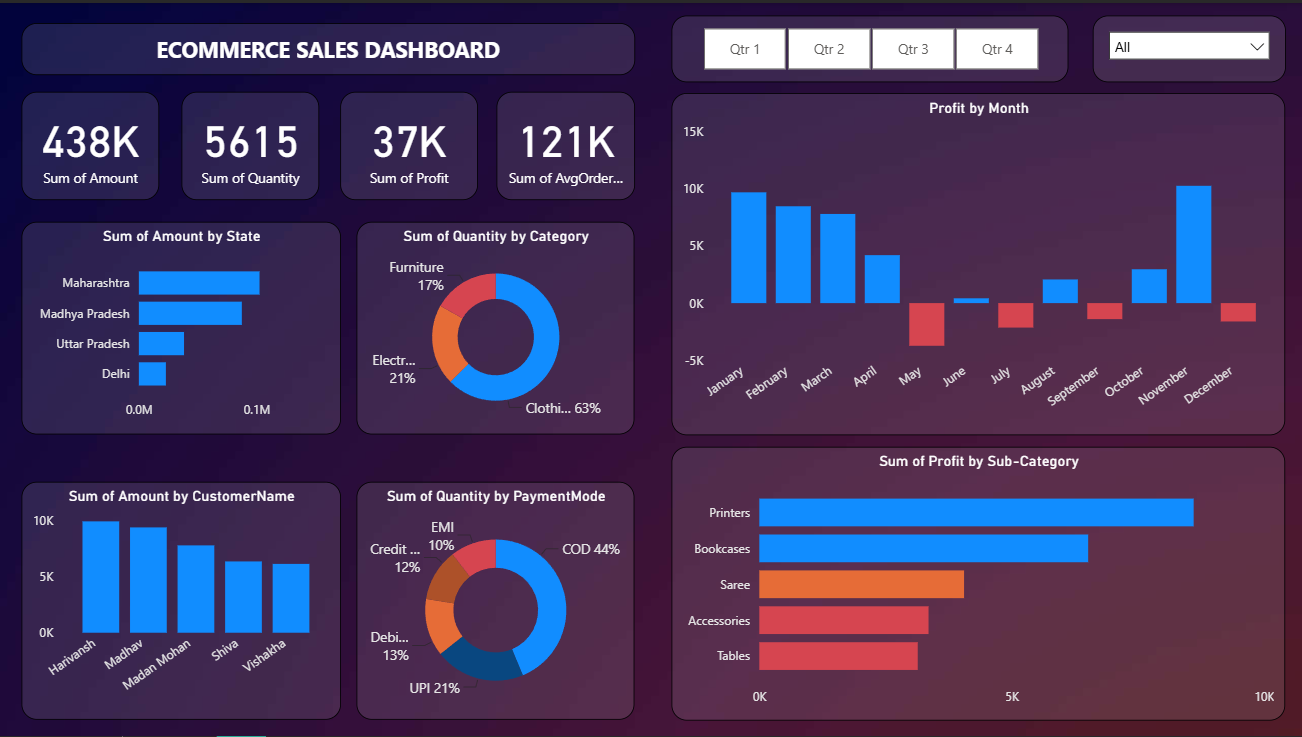

The dashboard page shown, as its layout file describes it:
{"tool":"powerbi","page":{"name":"Page 1","canvas":[1280,720],"ordinal":0},"visuals":[{"type":"textbox","box":[21.5,20.2,602.5,51.1],"z":0},{"type":"columnChart","title":"Profit by Month","fields":{"Y":["Sum(Details.Profit)"],"Category":["Orders.Order Date.Variation.Date Hierarchy.Month"]},"box":[660,87.8,602.4,336.2],"z":1000},{"type":"barChart","fields":{"Category":["Details.Sub-Category"],"Y":["Sum(Details.Profit)"]},"box":[660,435,602.4,269],"z":2000},{"type":"donutChart","fields":{"Category":["Details.Category"],"Y":["Sum(Details.Quantity)"]},"box":[351,215.2,273,208.4],"z":3000},{"type":"donutChart","fields":{"Category":["Details.PaymentMode"],"Y":["Sum(Details.Quantity)"]},"box":[351,469.3,273,234],"z":4000},{"type":"card","fields":{"Values":["Sum(Details.Amount)"]},"box":[21.5,87.4,135,106.2],"z":5000},{"type":"card","fields":{"Values":["Sum(Details.Quantity)"]},"box":[178.9,87.4,135,106.2],"z":6000},{"type":"card","fields":{"Values":["Sum(Details.AvgOrderValue)"]},"box":[488.2,87.4,135.8,106.2],"z":7000},{"type":"card","fields":{"Values":["Sum(Details.Profit)"]},"box":[334.9,87.4,135,106.2],"z":8000},{"type":"barChart","fields":{"Category":["Orders.State"],"Y":["Sum(Details.Amount)"]},"box":[21.5,215.2,313.3,208.4],"z":9000},{"type":"columnChart","fields":{"Category":["Orders.CustomerName"],"Y":["Sum(Details.Amount)"]},"box":[21.5,469.3,313.3,234],"z":10000},{"type":"slicer","fields":{"Values":["Orders.Order Date.Variation.Date Hierarchy.Quarter"]},"box":[660.3,12.1,390,65.9],"z":11000},{"type":"slicer","fields":{"Values":["Orders.State"]},"box":[1073.2,12.1,189.6,65.9],"z":12000}]}

Visuals, with their boxes in screenshot pixels (x1, y1, x2, y2), scaled from the page's 1280x720 canvas onto the 1302x737 screenshot:
textbox: {"left": 22, "top": 21, "right": 635, "bottom": 73}
"Profit by Month" columnChart: {"left": 671, "top": 90, "right": 1284, "bottom": 434}
barChart - Details.Sub-Category x Sum(Details.Profit): {"left": 671, "top": 445, "right": 1284, "bottom": 721}
donutChart - Details.Category x Sum(Details.Quantity): {"left": 357, "top": 220, "right": 635, "bottom": 434}
donutChart - Details.PaymentMode x Sum(Details.Quantity): {"left": 357, "top": 480, "right": 635, "bottom": 720}
card - Sum(Details.Amount): {"left": 22, "top": 89, "right": 159, "bottom": 198}
card - Sum(Details.Quantity): {"left": 182, "top": 89, "right": 319, "bottom": 198}
card - Sum(Details.AvgOrderValue): {"left": 497, "top": 89, "right": 635, "bottom": 198}
card - Sum(Details.Profit): {"left": 341, "top": 89, "right": 478, "bottom": 198}
barChart - Orders.State x Sum(Details.Amount): {"left": 22, "top": 220, "right": 341, "bottom": 434}
columnChart - Orders.CustomerName x Sum(Details.Amount): {"left": 22, "top": 480, "right": 341, "bottom": 720}
slicer - Orders.Order Date.Variation.Date Hierarchy.Quarter: {"left": 672, "top": 12, "right": 1068, "bottom": 80}
slicer - Orders.State: {"left": 1092, "top": 12, "right": 1285, "bottom": 80}
